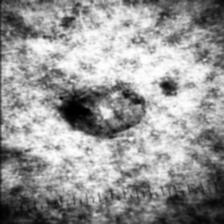Potentially Malignant Skin Tumors: (62, 88, 146, 138)
